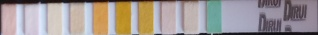color 1: (2, 6, 15, 35)
color 10: (208, 2, 220, 30)
color 2: (26, 6, 37, 35)
color 3: (48, 5, 60, 33)
color 4: (71, 5, 83, 33)
color 5: (95, 4, 106, 33)
color 6: (117, 4, 129, 34)
color 7: (140, 4, 152, 33)
color 8: (163, 4, 174, 33)
color 9: (185, 4, 197, 31)
